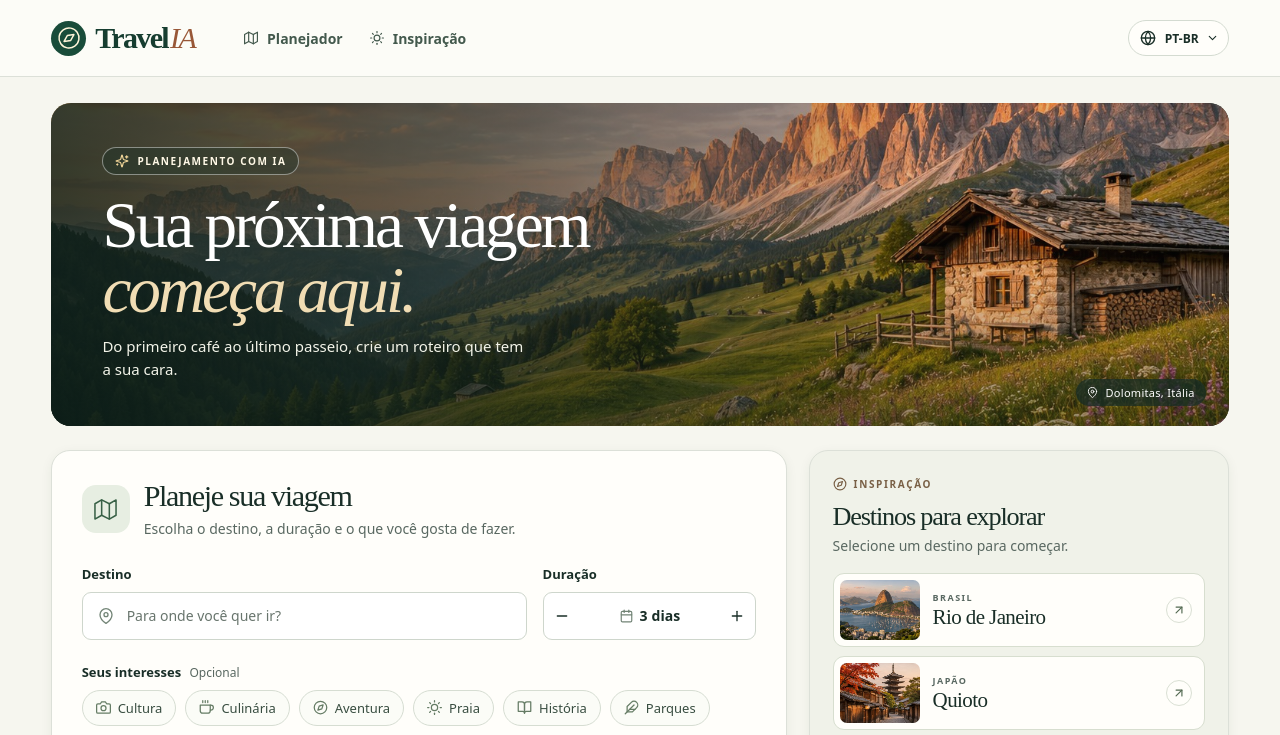
Scenario: streams days into the page and withholds the PDF until completion
This screenshot has width=1280, height=735.
Later steps or results of the test are not shown.
In the field labelled "Destino": (320, 616) [115,594,526,638], type "Paris"
(page scrolled)
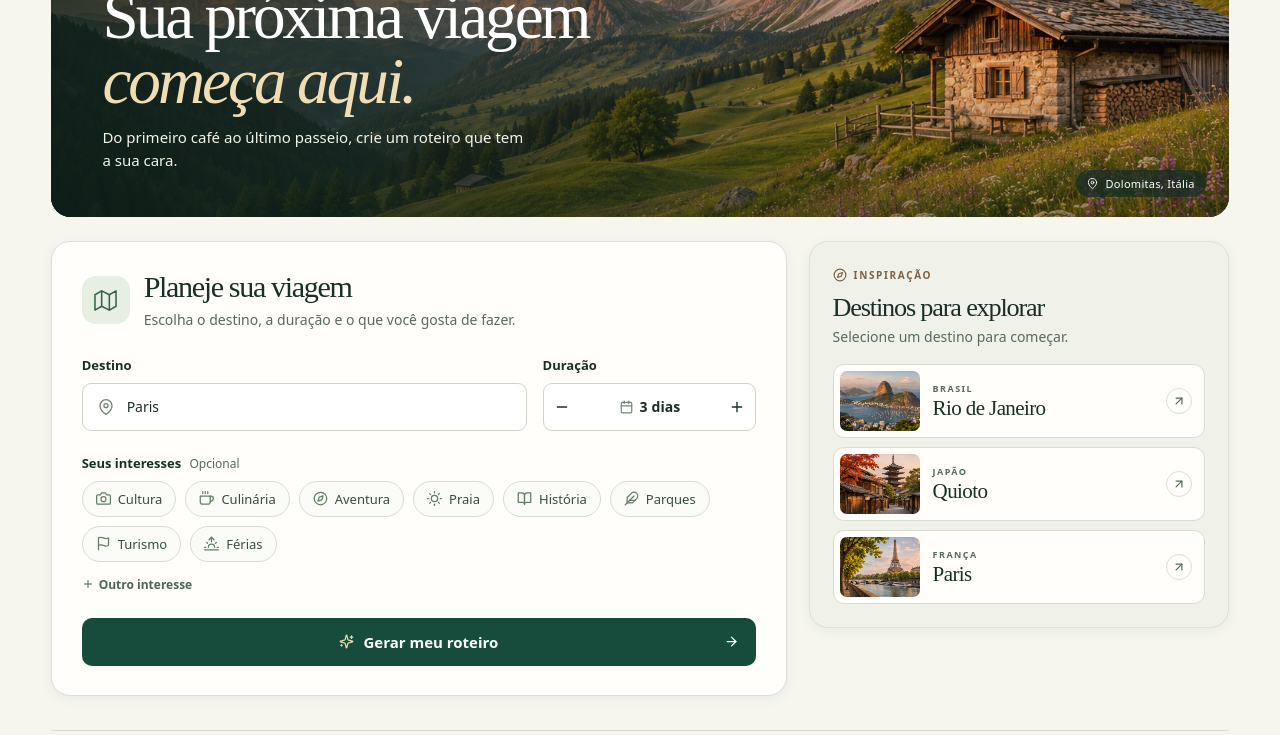
Click the button "Gerar meu roteiro": (419, 642) [82,618,756,666]
(page scrolled)
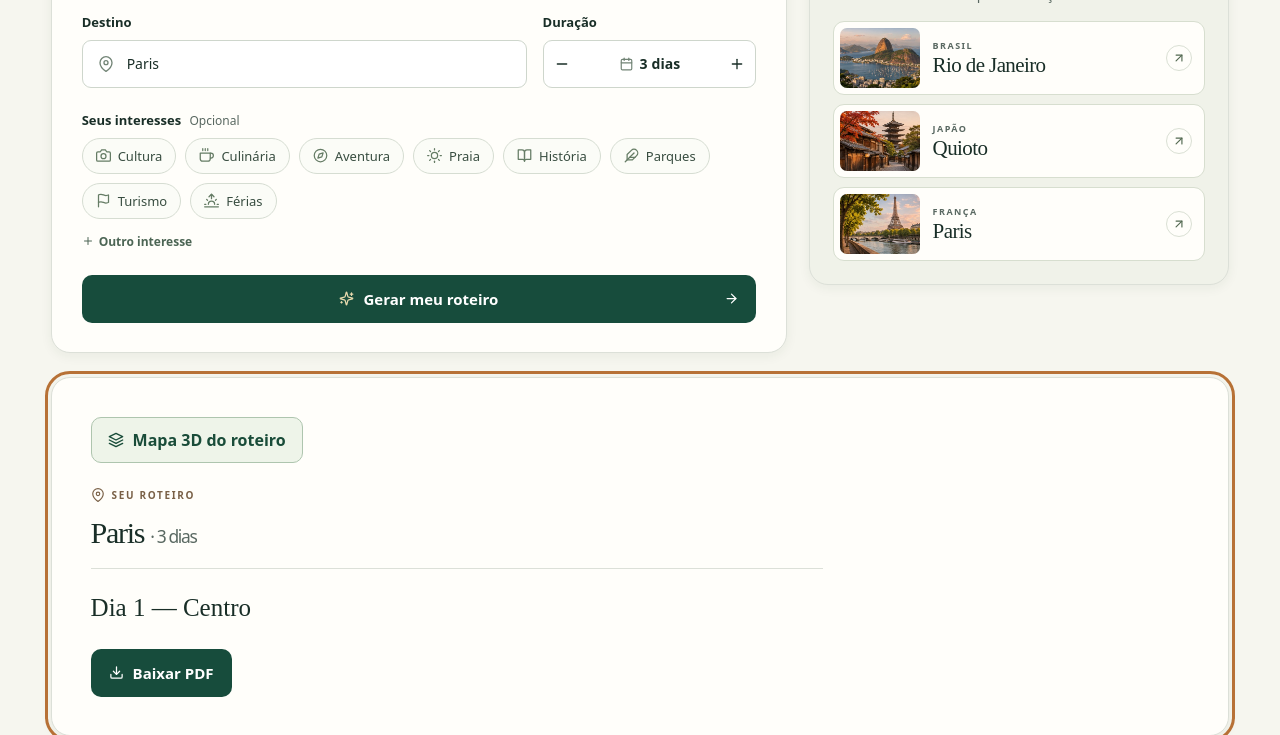
Result: the heading "Dia 1 — Centro" is shown at [91,568,823,629]
Result: the button "Baixar PDF" is enabled at [91,649,232,697]
